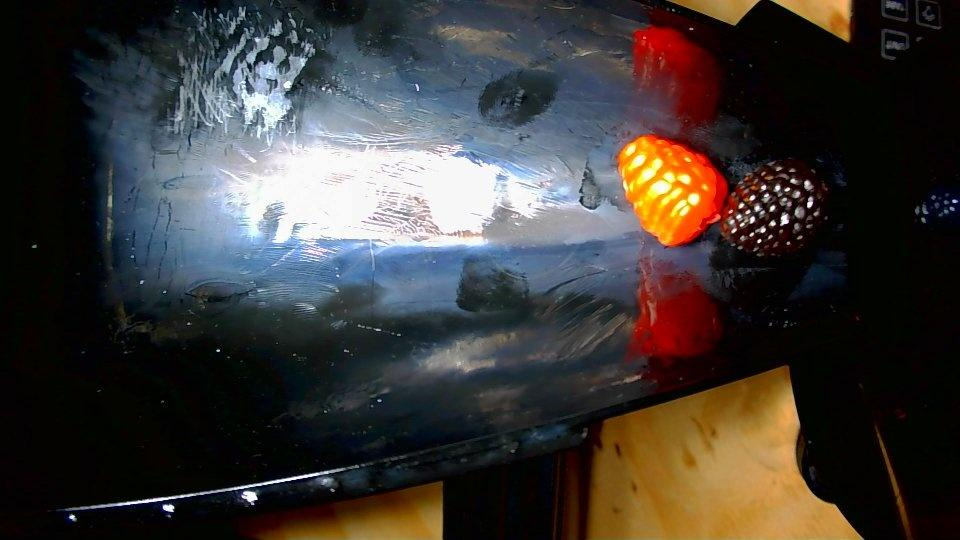berry: (618, 134, 726, 245), (721, 158, 828, 257), (915, 189, 959, 225)
